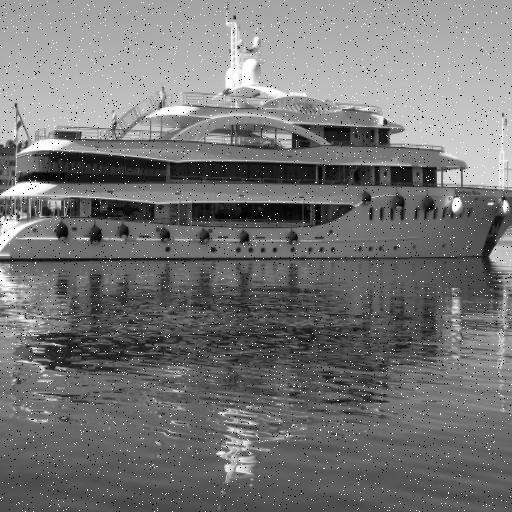cruises: (1, 4, 512, 268)
